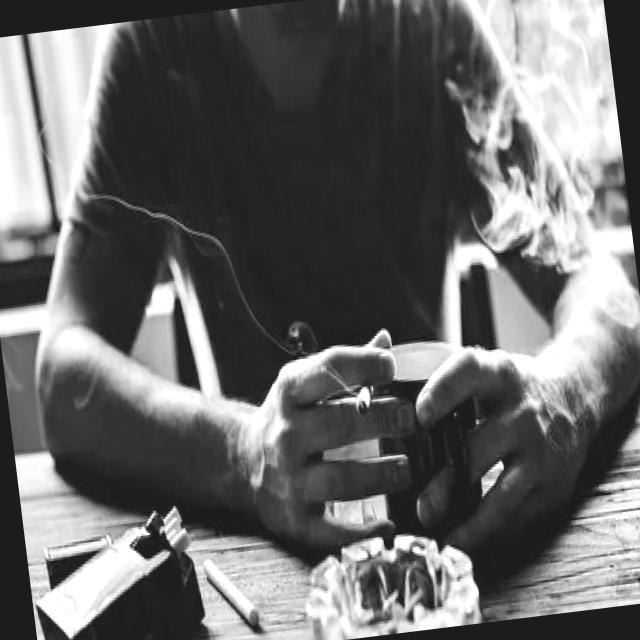cigarette: (200, 545, 270, 637), (158, 504, 200, 558), (349, 370, 382, 418)
